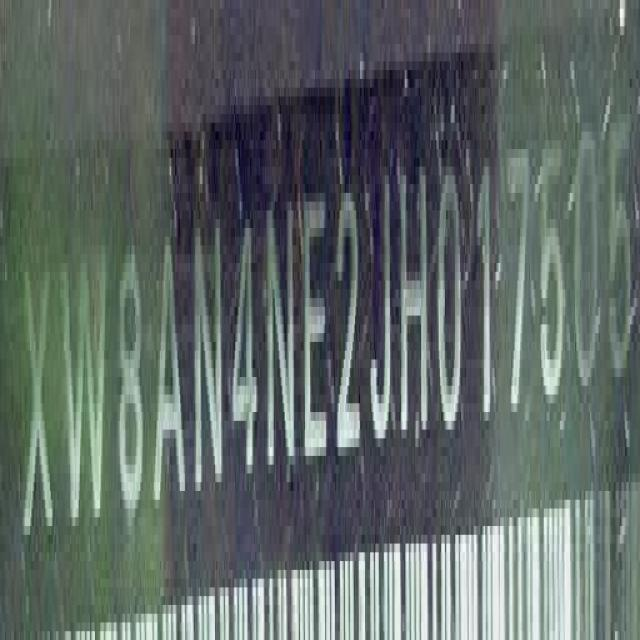0: (435, 156, 464, 447), (573, 120, 601, 403)
1: (481, 154, 499, 438)
2: (339, 189, 366, 468)
4: (231, 213, 259, 495)
5: (607, 107, 633, 390), (538, 142, 564, 417)
7: (509, 149, 532, 433)
8: (118, 246, 145, 526)
A: (152, 234, 186, 520)
E: (304, 188, 330, 472)
H: (401, 160, 431, 451)
J: (370, 149, 392, 471)
N: (194, 218, 227, 504), (266, 196, 296, 486)
W: (64, 257, 108, 545)
X: (22, 266, 54, 559)
